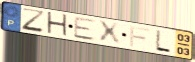E: (73, 17, 98, 42)
F: (128, 25, 151, 48)
H: (46, 11, 70, 39)
L: (154, 28, 173, 54)
X: (97, 19, 122, 46)
Z: (21, 7, 47, 35)
